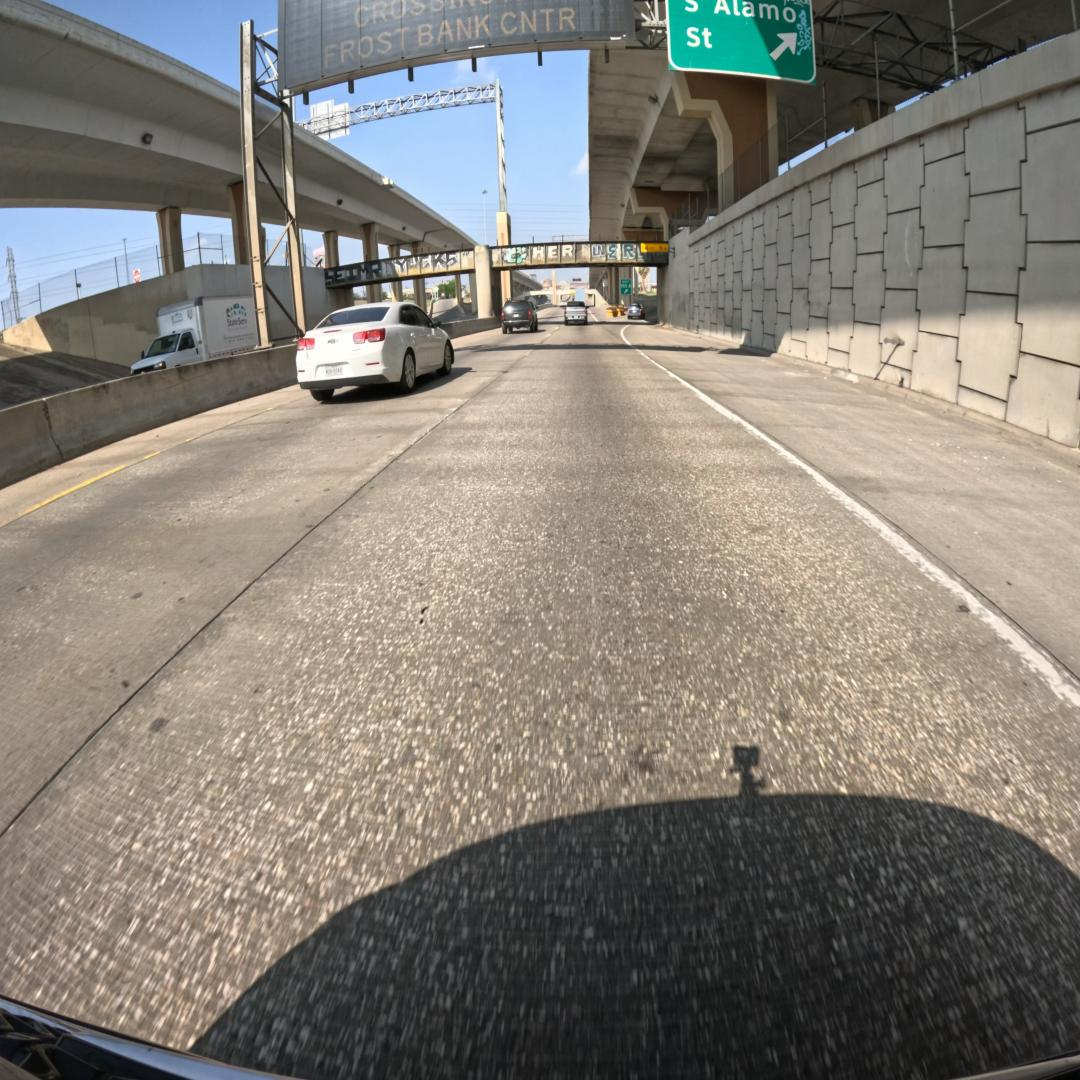lane0: (0, 325, 1080, 1077)
lane1: (0, 343, 525, 834)
